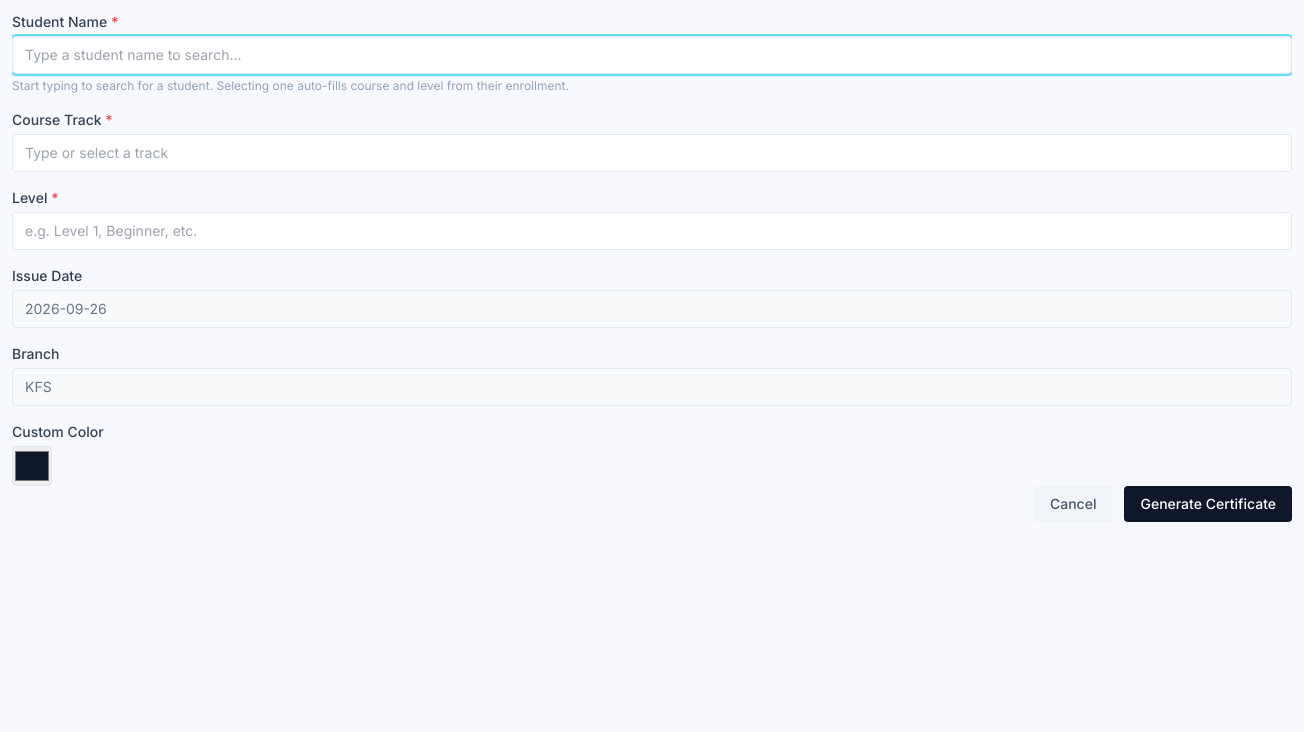
Test: CertificateForm student combobox (selection state) › fills the name in and closes the list when a student is picked
The width and height of the screenshot is (1304, 732).
In the field labelled "Student Name *": (652, 55) [12, 36, 1292, 74], type "Ahmed"
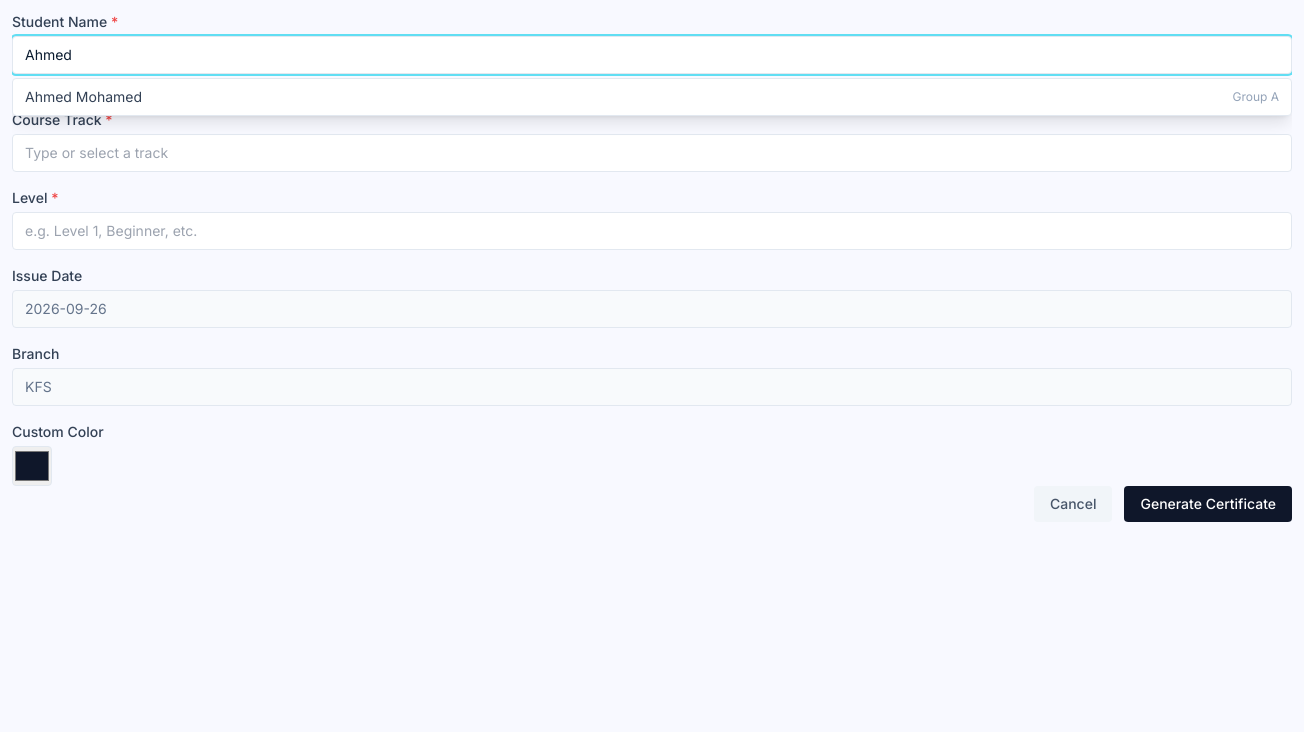
Expected: the list is shown, [12, 78, 1292, 116]
Press the mouse on the list item "Ahmed Mohamed Group A": (84, 96) [25, 88, 1279, 105]
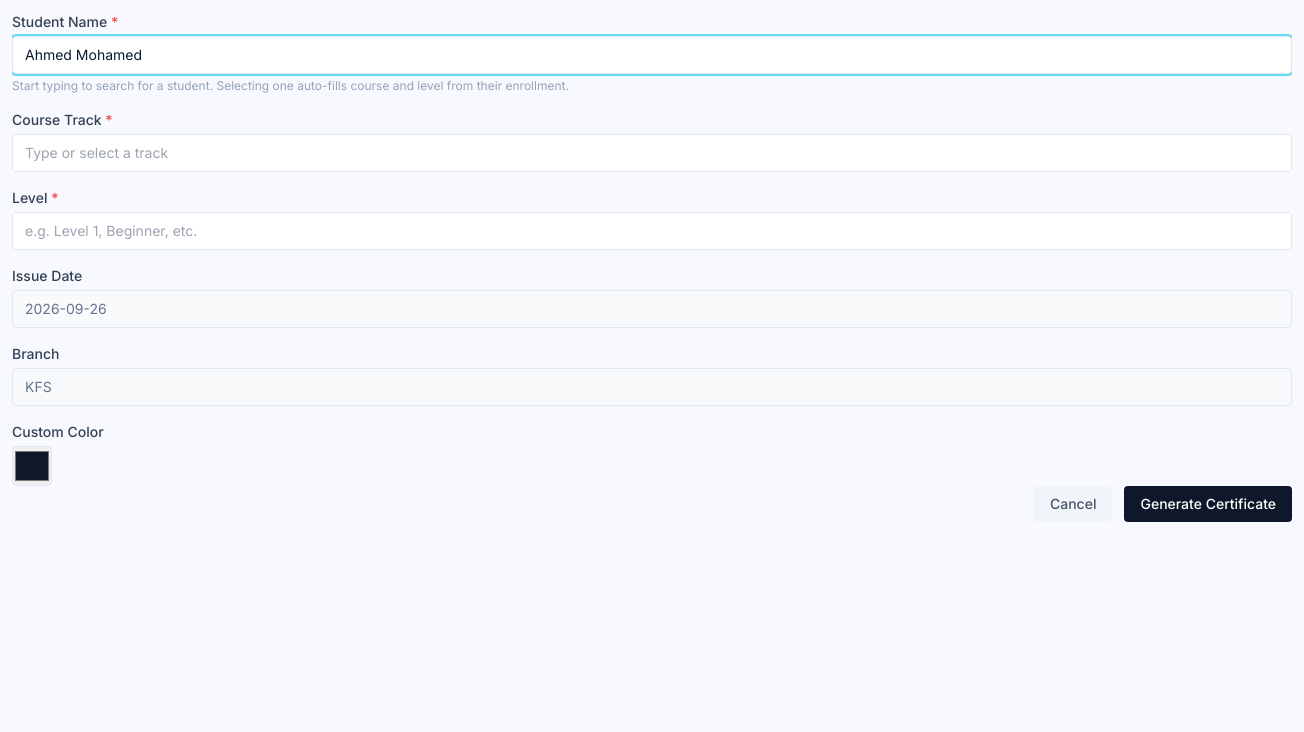
Expected: the field labelled "Student Name *" holds "Ahmed Mohamed", [12, 36, 1292, 74]
Expected: the list is gone
